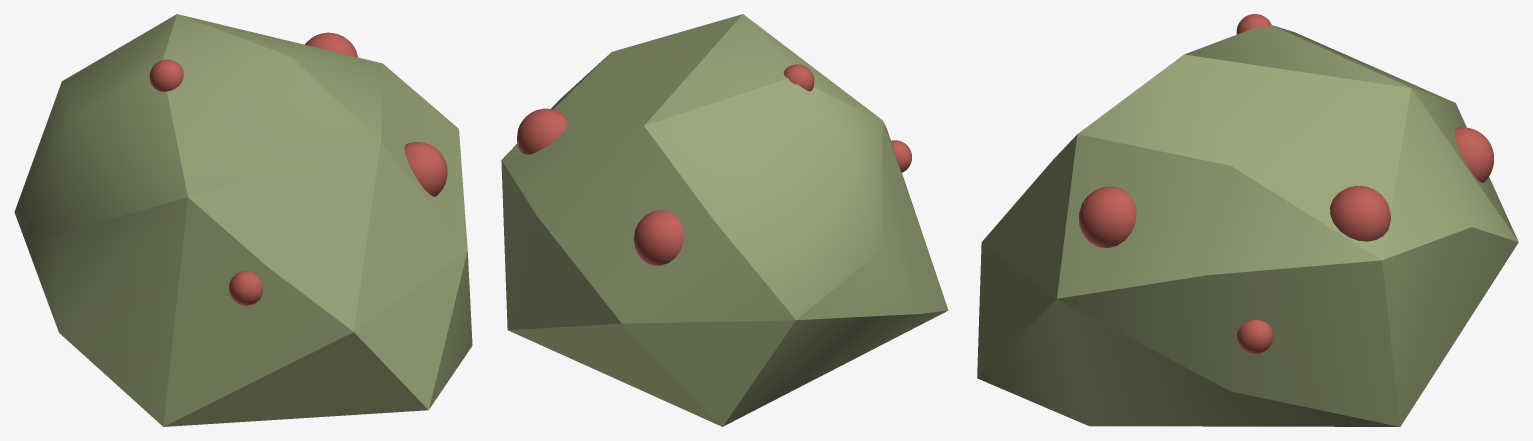
File: buisson_pivot2.fbx
The picture shows the model from 3 angles, left to right: view 1: azimuth 30°, elevation 25°; view 2: azimuth 150°, elevation 25°; view 3: azimuth 270°, elevation 25°; orthographic projection. The views are drawn at different scales.
Parts seen in each view (by area): view 1: pPlatonic1; view 2: pPlatonic1; view 3: pPlatonic1.
Boxes of the visible parts, box(x1,y1,x2,y2) form: pPlatonic1: box(14, 14, 472, 426); pPlatonic1: box(501, 14, 948, 426); pPlatonic1: box(977, 14, 1518, 426).
Bounding box in the file's own units: 0.919 × 0.6942 × 1.05.
